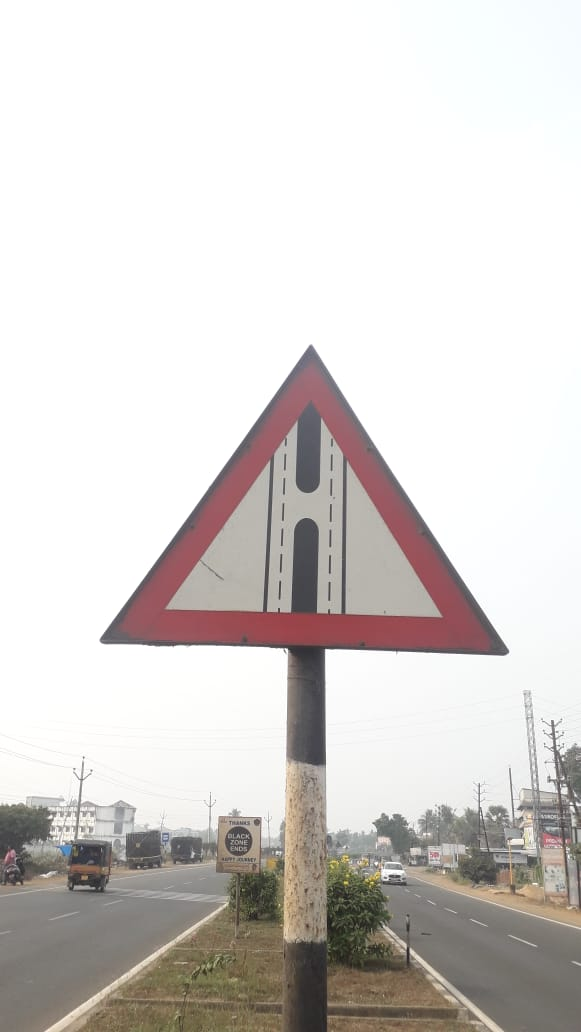highway go straight: (85, 333, 493, 693)
